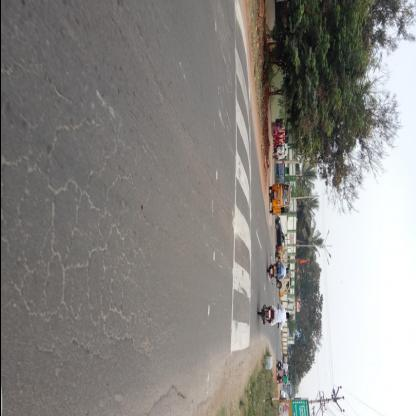speed-bumps: (228, 0, 256, 382)
